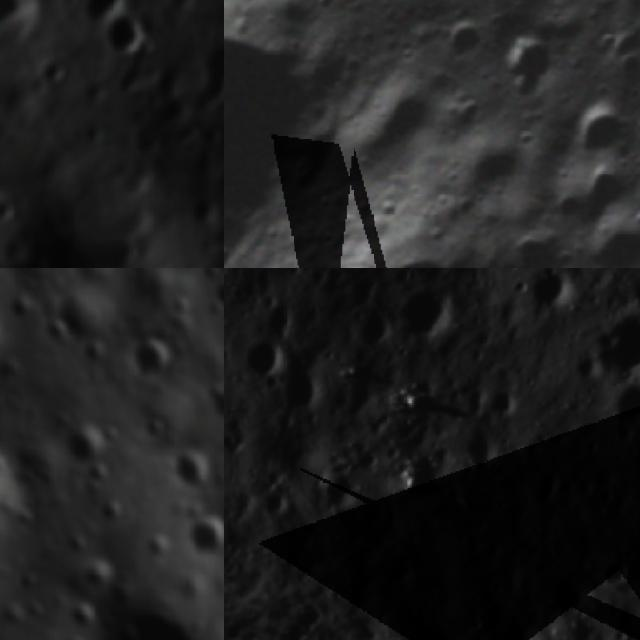crater: (21, 203, 148, 268), (572, 286, 640, 397), (382, 279, 462, 357), (258, 354, 332, 428), (300, 457, 372, 530), (448, 418, 518, 487), (228, 328, 296, 396), (510, 268, 586, 327), (343, 300, 406, 364), (493, 33, 556, 96), (534, 565, 596, 628), (167, 439, 224, 501), (122, 324, 178, 385), (56, 416, 115, 473), (0, 447, 27, 570), (595, 373, 640, 445), (517, 462, 573, 519), (101, 11, 163, 62), (570, 103, 625, 160), (248, 294, 302, 348), (178, 504, 224, 567), (590, 551, 640, 602), (482, 604, 549, 640), (72, 548, 122, 596), (482, 380, 530, 430), (191, 29, 224, 94), (60, 596, 101, 638), (37, 49, 76, 87), (3, 287, 38, 328), (137, 410, 177, 445), (185, 194, 221, 230), (204, 369, 224, 431), (95, 493, 128, 528), (81, 336, 114, 370), (205, 268, 224, 327), (60, 530, 94, 562), (141, 525, 173, 559), (0, 596, 31, 631), (621, 479, 640, 533), (588, 23, 620, 54), (40, 314, 69, 346), (8, 567, 42, 594), (29, 459, 54, 488), (195, 268, 224, 286)
